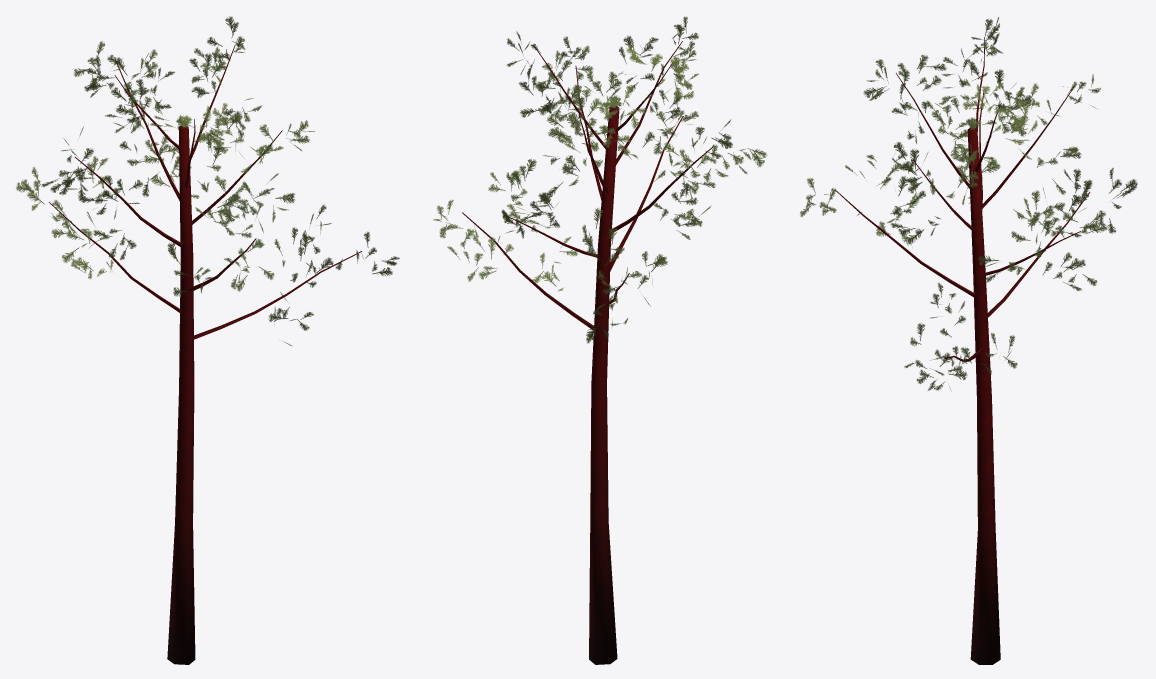
File: pine_open_v03_LOD2.glb
The picture shows the model from 3 angles, left to right: view 1: azimuth 30°, elevation 25°; view 2: azimuth 150°, elevation 25°; view 3: azimuth 270°, elevation 25°; orthographic projection. The views are drawn at different scales.
Parts seen in each view (by area): view 1: pine_open_v03_LOD2; view 2: pine_open_v03_LOD2; view 3: pine_open_v03_LOD2.
Part boxes in pixels (<box>): pine_open_v03_LOD2: <box>16,16,399,664</box>; pine_open_v03_LOD2: <box>433,16,767,664</box>; pine_open_v03_LOD2: <box>800,17,1137,664</box>.
Bounding box in the file's own units: 16.17 × 27.61 × 14.18.
2 materials, 2 textured.
